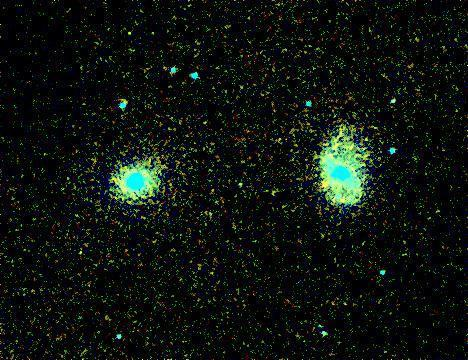star: (309, 173, 339, 203)
